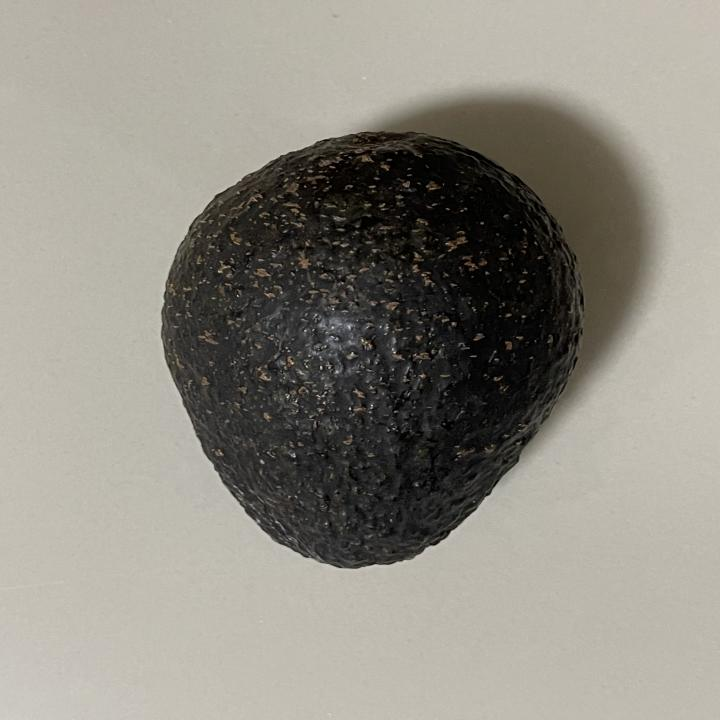Level2: (152, 124, 592, 574)
